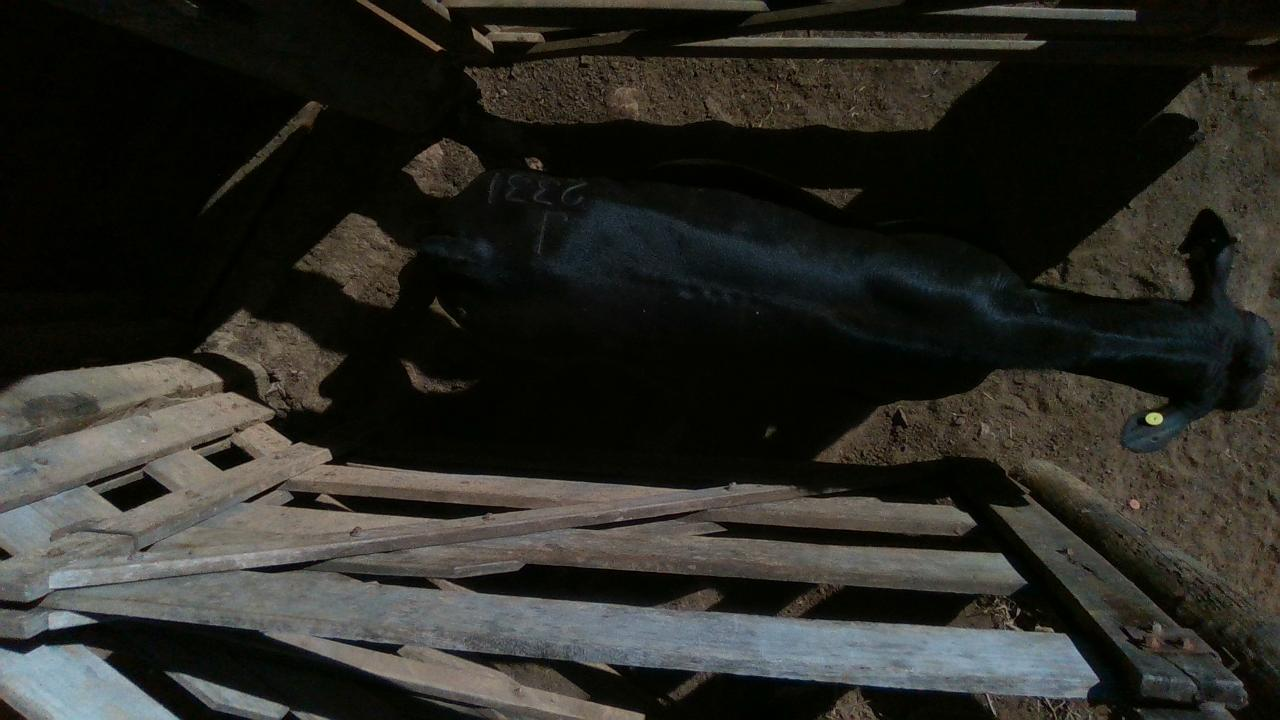cattle: (414, 163, 1273, 455)
